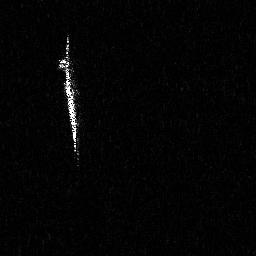ship: (56, 32, 83, 169)
